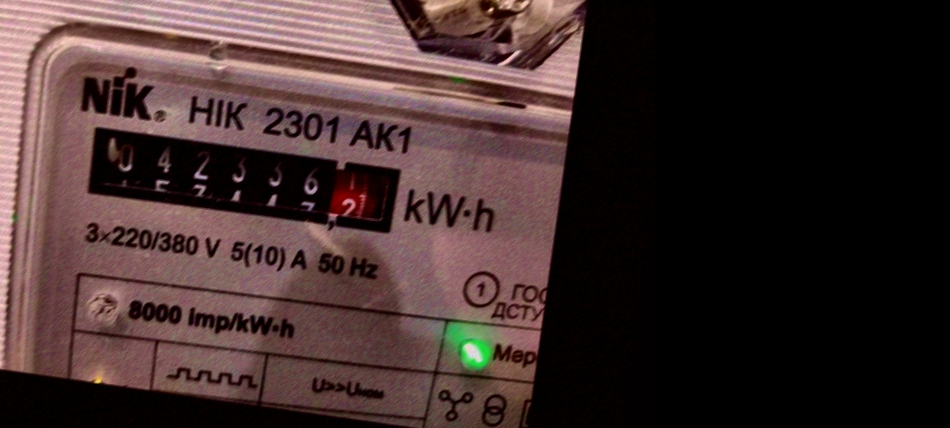0: (111, 138, 135, 174)
1: (341, 165, 356, 192)
2: (187, 145, 213, 182), (334, 195, 354, 218)
3: (224, 149, 246, 184), (263, 155, 284, 189)
4: (152, 140, 173, 174)
6: (297, 162, 321, 198)
screen: (69, 110, 413, 247)
